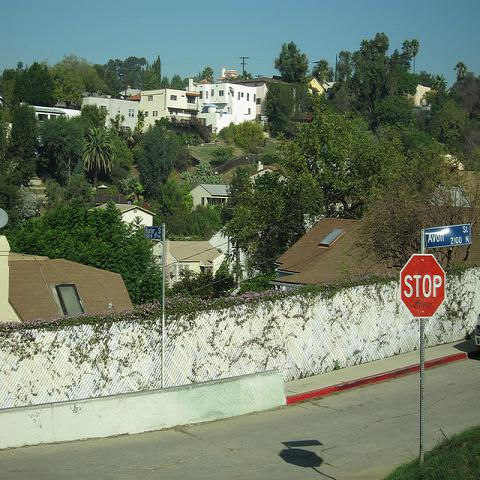car: (475, 314, 479, 346)
